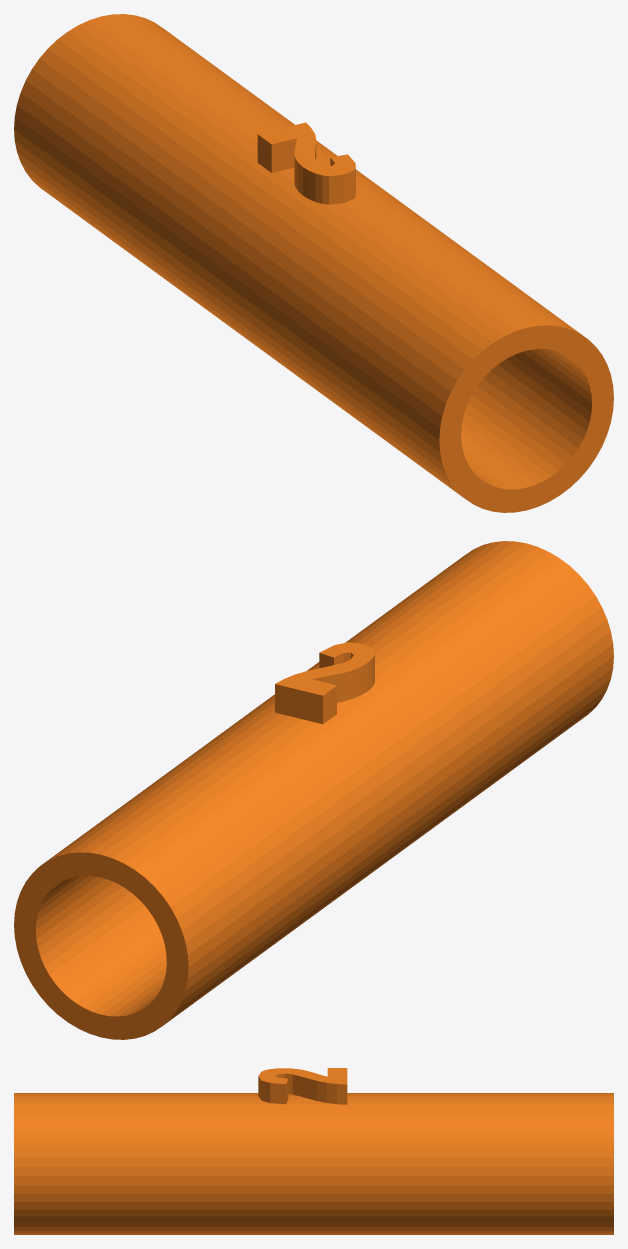
Rendered from dc_motor_test_2.obj.
3 renders of one model, top to bottom at view 1: azimuth 30°, elevation 25°; view 2: azimuth 150°, elevation 25°; view 3: azimuth 270°, elevation 25°, orthographic. The views are drawn at different scales.
Visible parts, largest first — view 1: obj_0; view 2: obj_0; view 3: obj_0.
Part boxes in pixels (<box>): obj_0: <box>14,14,613,512</box>; obj_0: <box>14,541,613,1039</box>; obj_0: <box>14,1068,613,1234</box>.
Size of the model in its own units: 2.54 by 2.94 by 10.72.
